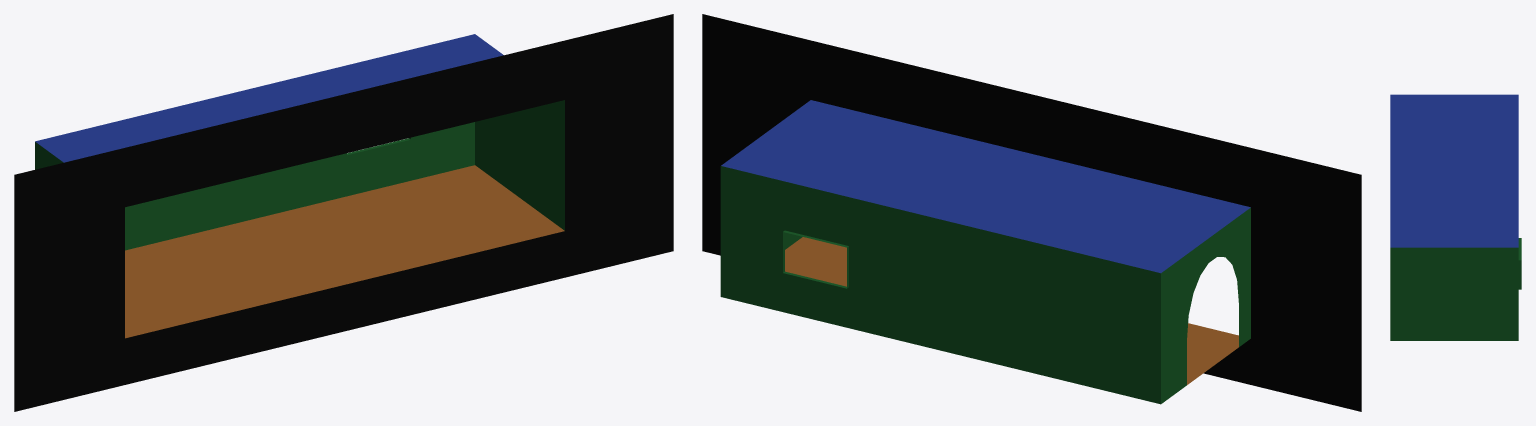
The model's file is olohuone with holes.fbx.
The picture shows the model from 3 angles, left to right: view 1: azimuth 30°, elevation 25°; view 2: azimuth 150°, elevation 25°; view 3: azimuth 270°, elevation 25°; orthographic projection. The views are drawn at different scales.
Visible parts, largest first — view 1: Cube.002; view 2: Cube.002; view 3: Cube.002.
Boxes of the visible parts, box(x1,y1,x2,y2) form: Cube.002: box(14, 14, 673, 411); Cube.002: box(702, 14, 1361, 411); Cube.002: box(1390, 94, 1521, 340).
Bounding box in the file's own units: 6592 × 2267 × 1596.
